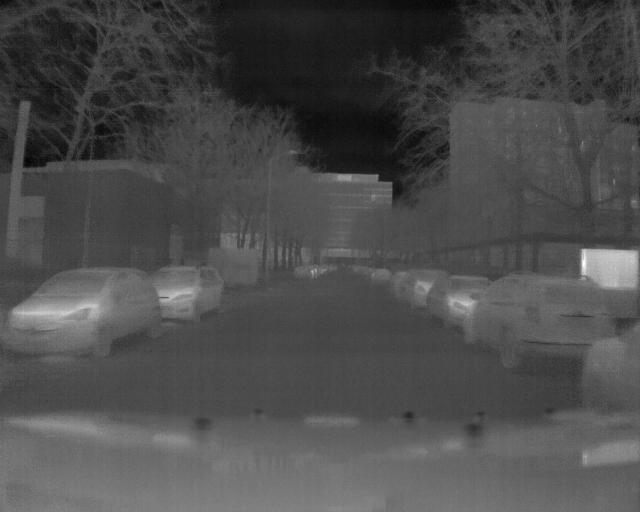car: (4, 267, 165, 357), (471, 275, 617, 368), (152, 261, 230, 322), (428, 265, 475, 328)
